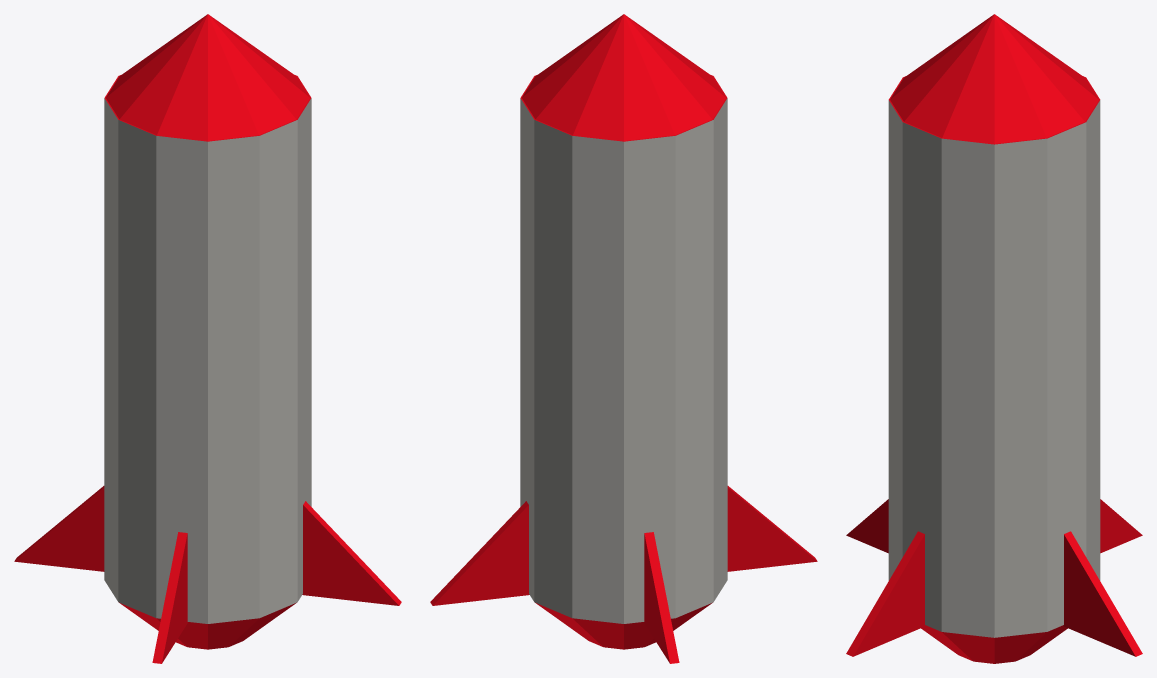
Rendered from missile.fbx.
3 renders of one model, left to right at view 1: azimuth 30°, elevation 25°; view 2: azimuth 150°, elevation 25°; view 3: azimuth 270°, elevation 25°, orthographic. The views are drawn at different scales.
Parts seen in each view (by area): view 1: Cube; view 2: Cube; view 3: Cube.
Part boxes in pixels (box(x1,y1,x2,y2)): Cube: box(14, 14, 401, 663); Cube: box(430, 14, 817, 663); Cube: box(846, 14, 1142, 663).
Bounding box in the file's own units: 278 × 659 × 280.
